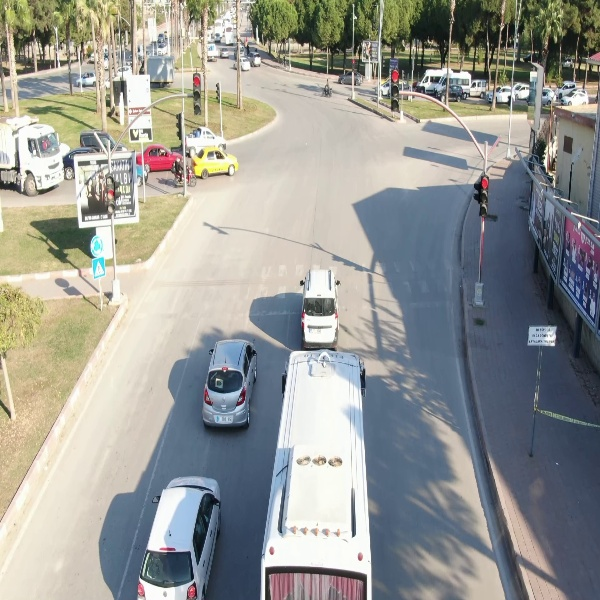car: (200, 337, 259, 430), (299, 268, 340, 351), (190, 145, 239, 180), (436, 84, 465, 105), (488, 84, 515, 106), (560, 89, 590, 108), (336, 68, 365, 87), (74, 70, 98, 89)
